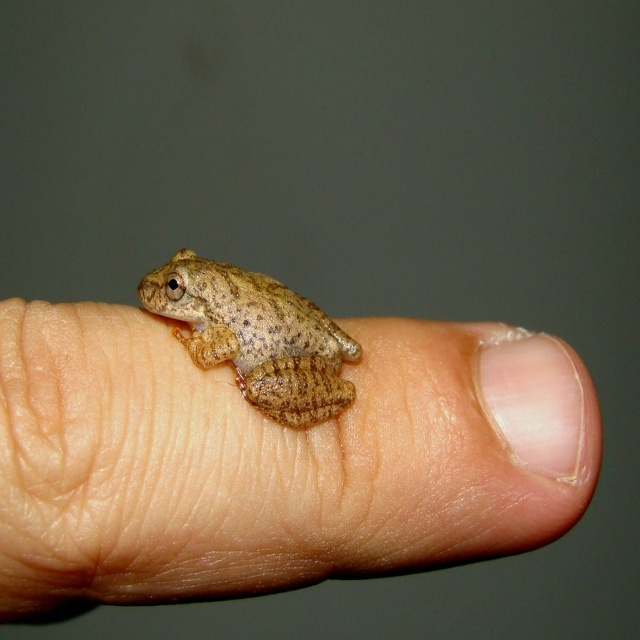Frog: (135, 247, 363, 427)
